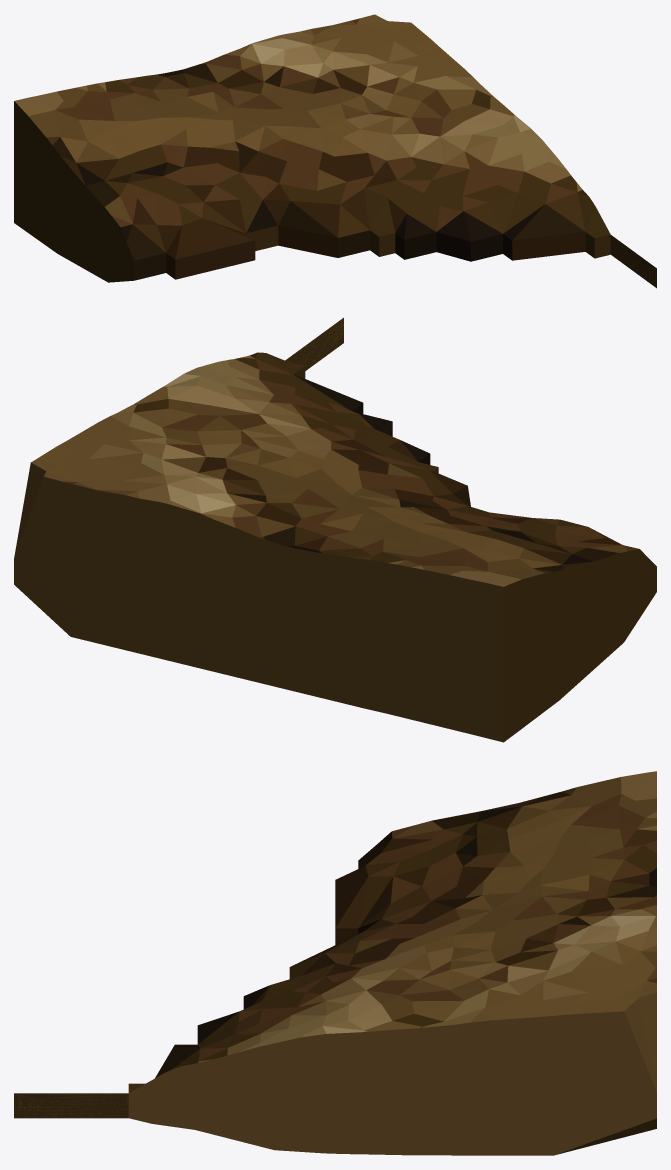
Rendered from newsh3-279.glb.
3 views of the same model, one above another, from view 1: azimuth 30°, elevation 25°; view 2: azimuth 150°, elevation 25°; view 3: azimuth 270°, elevation 25° (orthographic). The views are drawn at different scales.
Visible parts, largest first — view 1: newsh3-279; view 2: newsh3-279; view 3: newsh3-279.
Boxes of the visible parts, <box> form: newsh3-279: <box>14,14,656,288</box>; newsh3-279: <box>14,317,656,742</box>; newsh3-279: <box>14,771,656,1155</box>.
Bounding box in the file's own units: 2 × 0.6114 × 2.33.
